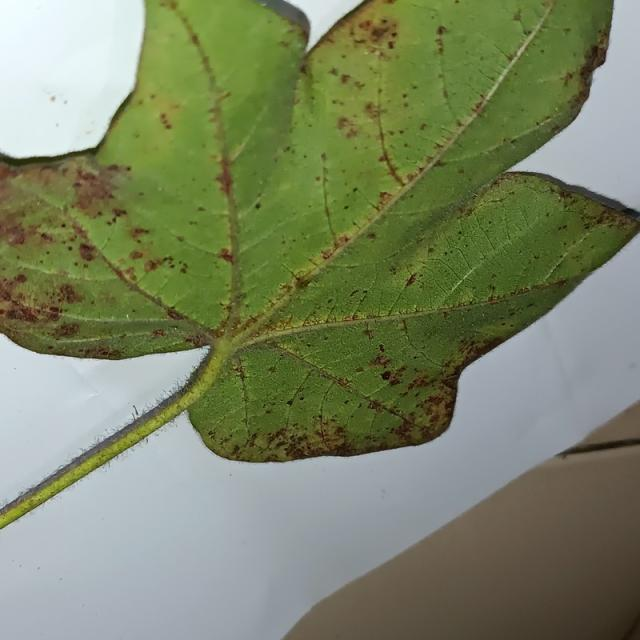Bacterial_Blight: (537, 197, 620, 297), (354, 312, 459, 391), (211, 114, 245, 328), (302, 189, 379, 274), (235, 263, 318, 338), (350, 375, 424, 431), (440, 322, 521, 368), (162, 219, 237, 266), (432, 230, 493, 286), (575, 196, 634, 250), (181, 345, 230, 409), (423, 260, 483, 312), (224, 101, 263, 166), (6, 254, 89, 280), (280, 368, 316, 424), (4, 478, 52, 519), (237, 359, 252, 454), (277, 433, 330, 459), (319, 151, 334, 241), (314, 399, 337, 452), (91, 215, 118, 259), (431, 16, 449, 78), (199, 345, 226, 377), (286, 271, 320, 295), (588, 40, 608, 70), (251, 432, 273, 451), (367, 352, 391, 369), (214, 169, 231, 192), (369, 24, 392, 41), (54, 322, 80, 337), (365, 40, 390, 55), (5, 308, 31, 322), (212, 91, 231, 109), (364, 102, 382, 120), (165, 307, 185, 321), (184, 334, 203, 348), (93, 347, 115, 358), (377, 192, 393, 206), (405, 272, 418, 287), (562, 71, 574, 87), (585, 71, 595, 88), (362, 327, 375, 340), (400, 319, 409, 333), (555, 278, 568, 287), (231, 444, 241, 455), (381, 371, 392, 381), (152, 329, 165, 337), (513, 11, 522, 21), (191, 35, 200, 45), (132, 405, 139, 417), (378, 343, 386, 352), (558, 224, 568, 230), (254, 202, 261, 210), (286, 399, 294, 406), (131, 412, 136, 422), (533, 254, 540, 260), (343, 399, 350, 405)
Cotton: (0, 0, 639, 526)
